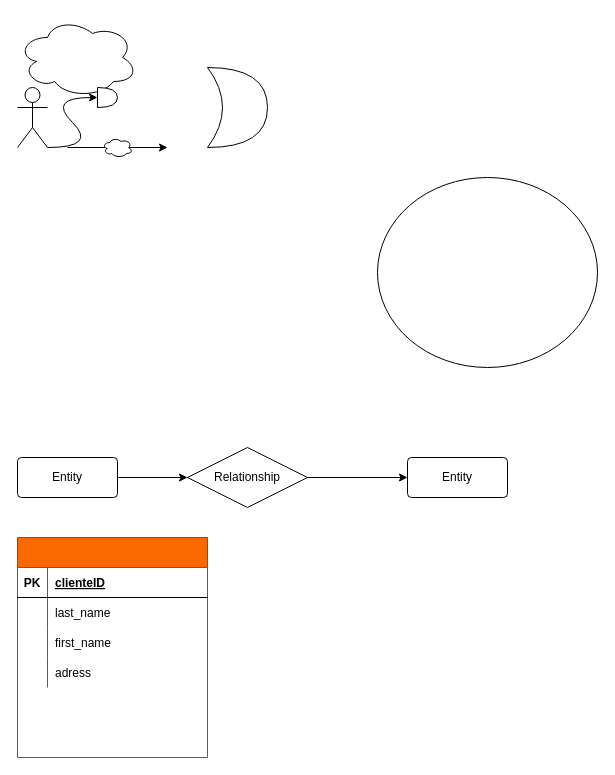
This 615x775 diagram has some shape labels left out. Each missing label, with the box of its shape:
Actor: (16, 86, 48, 148)
Table: (16, 536, 208, 758)
